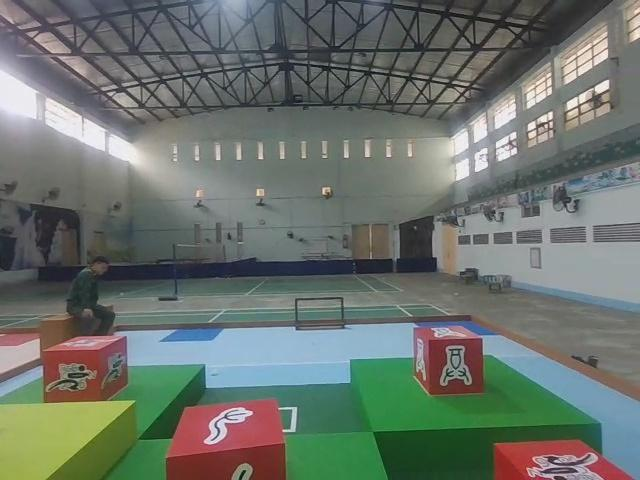R1: (40, 331, 129, 404), (491, 437, 640, 480)
R2 Real: (167, 395, 288, 480), (411, 322, 486, 398)
